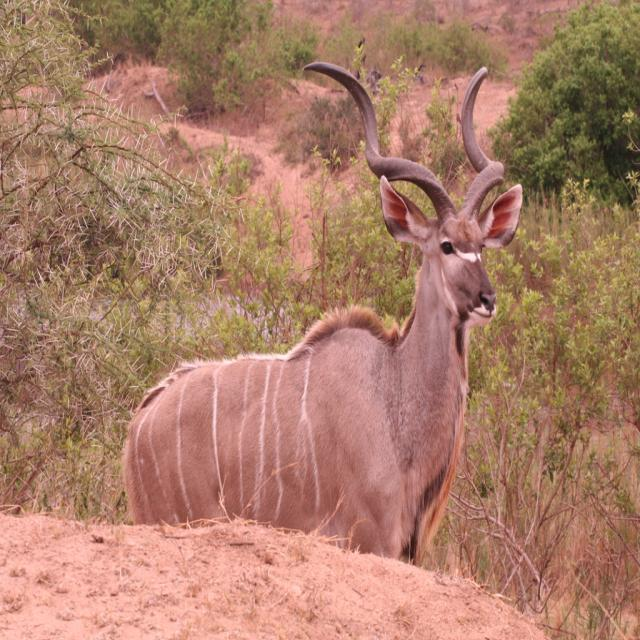Deer: (120, 62, 522, 566)
